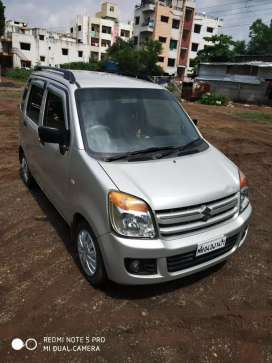nameplate: (194, 232, 228, 254)
